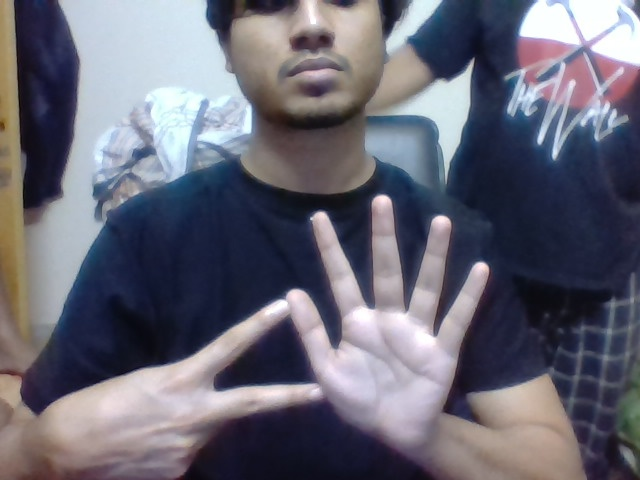N: (200, 294, 286, 424)
